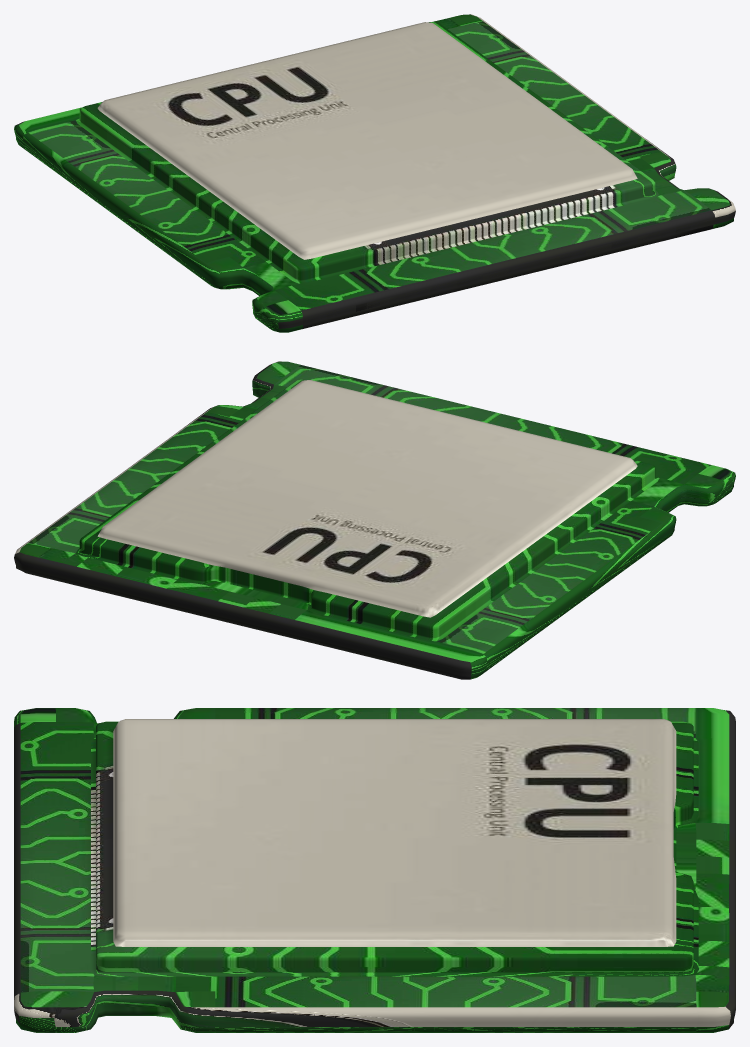
The model's file is cpu2.fbx.
3 renders of one model, top to bottom at view 1: azimuth 30°, elevation 25°; view 2: azimuth 150°, elevation 25°; view 3: azimuth 270°, elevation 25°, orthographic. The views are drawn at different scales.
Parts seen in each view (by area): view 1: pCube3; view 2: pCube3; view 3: pCube3.
Part boxes in pixels (box(x1,y1,x2,y2)): pCube3: box(14, 14, 735, 332); pCube3: box(14, 361, 735, 679); pCube3: box(14, 708, 735, 1032).
Size of the model in its own units: 5.65 by 0.507 by 5.65.
